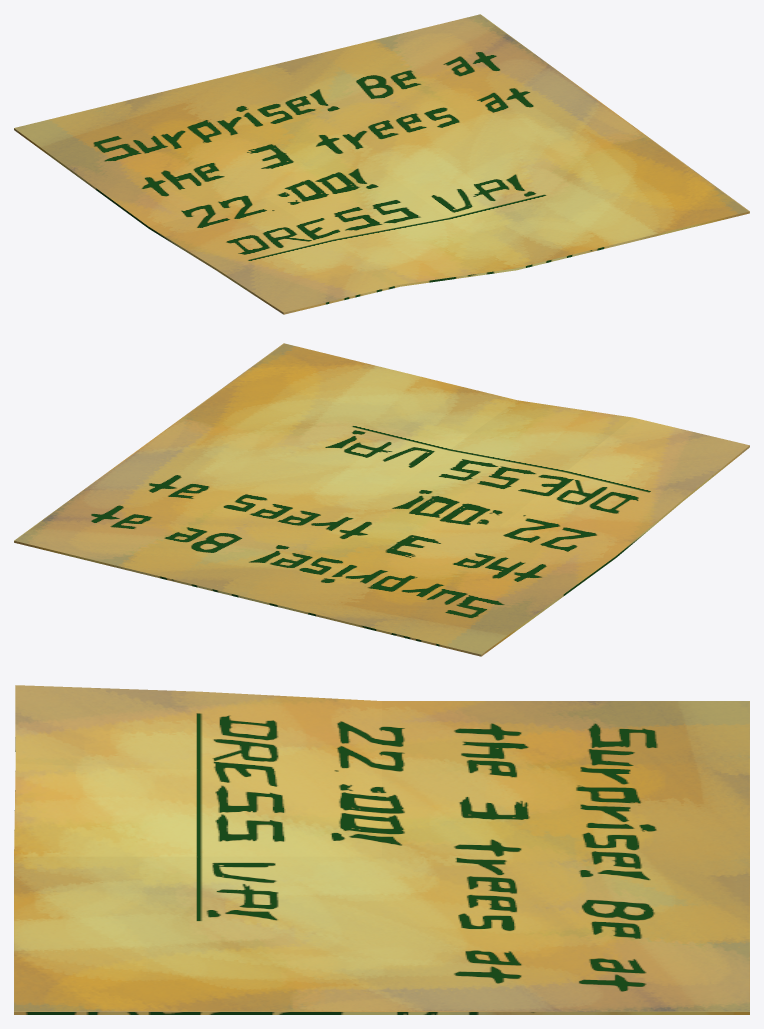
The model's file is LO_notes_date_invitation.glb.
3 views of the same model, one above another, from view 1: azimuth 30°, elevation 25°; view 2: azimuth 150°, elevation 25°; view 3: azimuth 270°, elevation 25° (orthographic). The views are drawn at different scales.
Visible parts, largest first — view 1: Plane.004; view 2: Plane.004; view 3: Plane.004.
Part boxes in pixels (left/top/right/bottom): Plane.004: left=14, top=14, right=749, bottom=314; Plane.004: left=14, top=343, right=749, bottom=656; Plane.004: left=14, top=685, right=749, bottom=1014.
Size of the model in its own units: 0.1099 by 0.00316 by 0.1099.
1 material, 1 textured.
